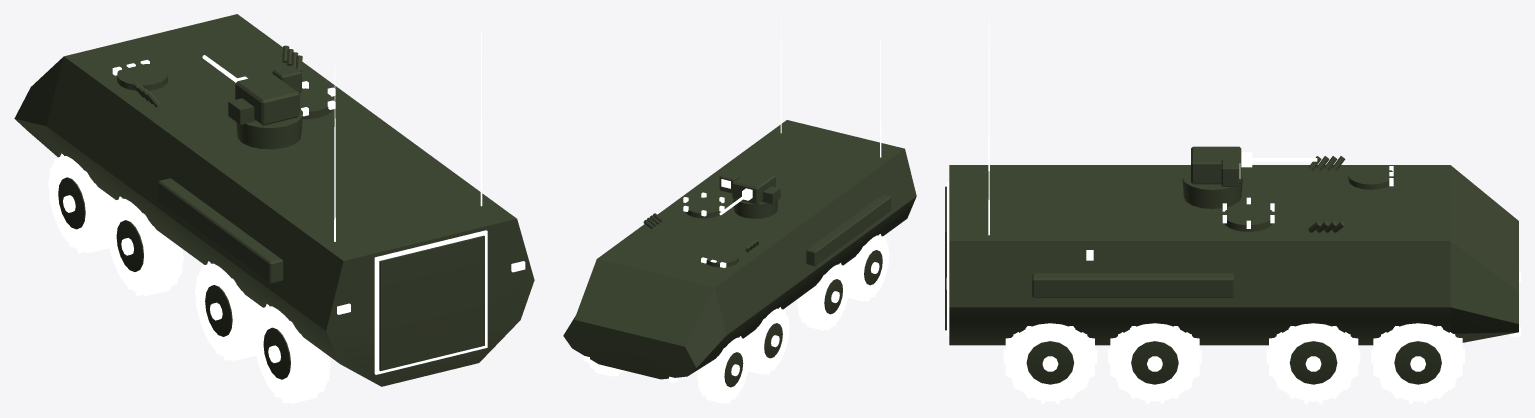
Rendered from apc_8x8.glb.
The picture shows the model from 3 angles, left to right: view 1: azimuth 30°, elevation 25°; view 2: azimuth 150°, elevation 25°; view 3: azimuth 270°, elevation 25°; orthographic projection. The views are drawn at different scales.
Visible parts, largest first — view 1: apc_8x8_LOD0; view 2: apc_8x8_LOD0; view 3: apc_8x8_LOD0.
Boxes of the visible parts, x1,y1,x2,y2 form: apc_8x8_LOD0: (14,14,534,403); apc_8x8_LOD0: (563,14,916,403); apc_8x8_LOD0: (945,14,1520,403).
Size of what is drawn, in the model's own units: 3.27 by 4.84 by 7.99.
